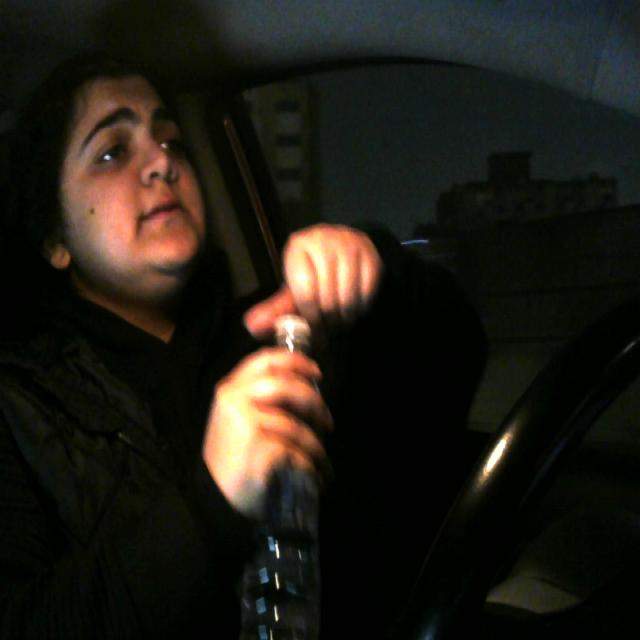drinking: (248, 308, 340, 640)
